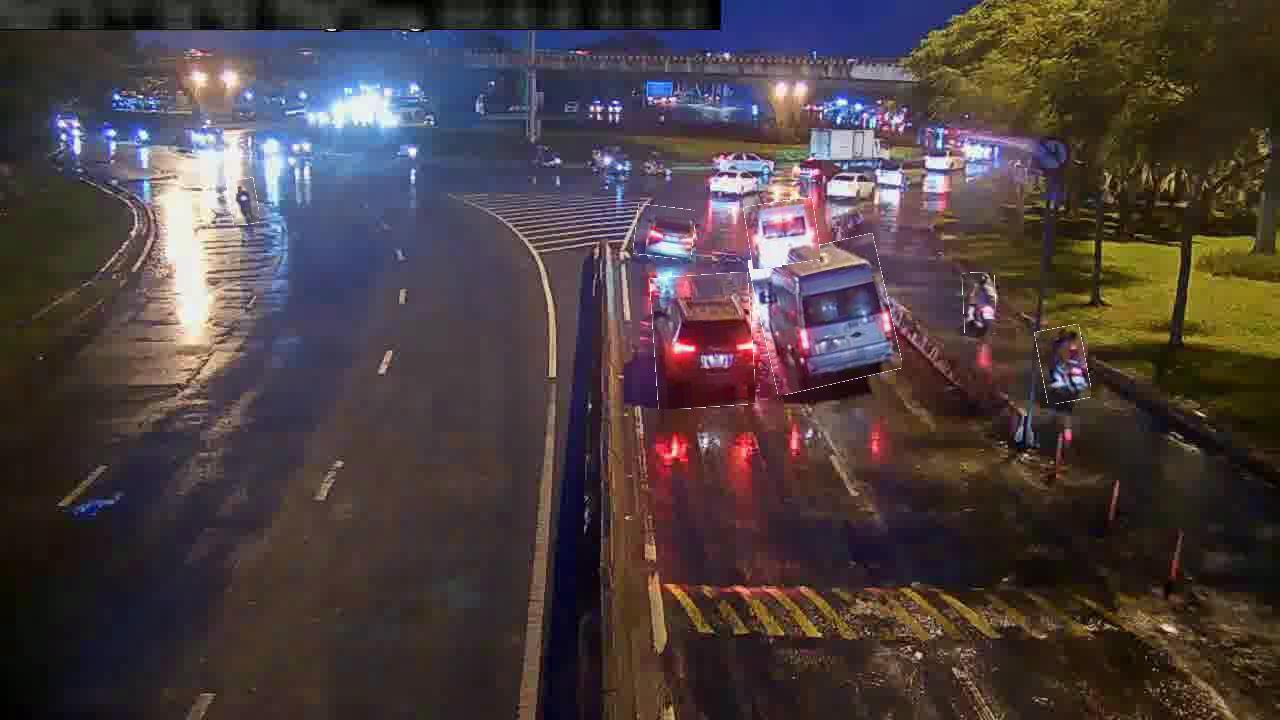14: (755, 240, 897, 390), (746, 200, 819, 268)
container: (652, 274, 754, 409), (635, 206, 695, 258)
motorbike: (1038, 326, 1089, 404), (963, 273, 997, 335), (228, 178, 259, 225)
